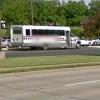Bus: (9, 19, 81, 54)
